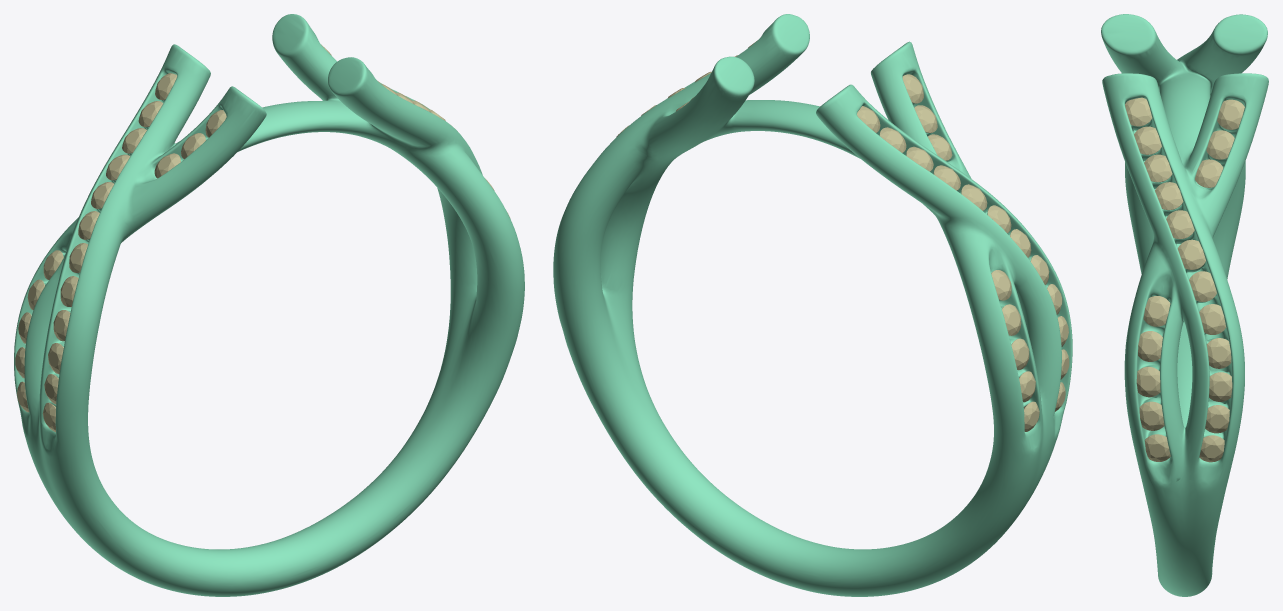
3 views of the same model, side by side, from view 1: azimuth 30°, elevation 25°; view 2: azimuth 150°, elevation 25°; view 3: azimuth 270°, elevation 25° (orthographic).
Parts seen in each view (by area): view 1: Metal02; view 2: Metal02; view 3: Metal02, Diamond_Gem.016, Diamond_Gem.015, Diamond_Gem.001, Diamond_Gem.014, Diamond_Gem.002, Diamond_Gem.019, Diamond_Gem, Diamond_Gem.006, Diamond_Gem.018, Diamond_Gem.003, Diamond_Gem.013 (+9 smaller).
Part boxes in pixels (<box>): Metal02: <box>14,14,524,596</box>; Metal02: <box>553,14,1072,596</box>; Metal02: <box>1101,14,1268,596</box>; Diamond_Gem.016: <box>1143,296,1170,326</box>; Diamond_Gem.015: <box>1138,331,1162,361</box>; Diamond_Gem.001: <box>1199,304,1226,334</box>; Diamond_Gem.014: <box>1136,366,1160,397</box>; Diamond_Gem.002: <box>1206,338,1231,368</box>; Diamond_Gem.019: <box>1217,99,1244,129</box>; Diamond_Gem: <box>1189,271,1216,301</box>; Diamond_Gem.006: <box>1177,239,1205,269</box>; Diamond_Gem.018: <box>1206,130,1234,159</box>; Diamond_Gem.003: <box>1209,372,1232,401</box>; Diamond_Gem.013: <box>1139,401,1164,430</box>.
Size of the model in its own units: 20.95 by 22.49 by 6.48.
